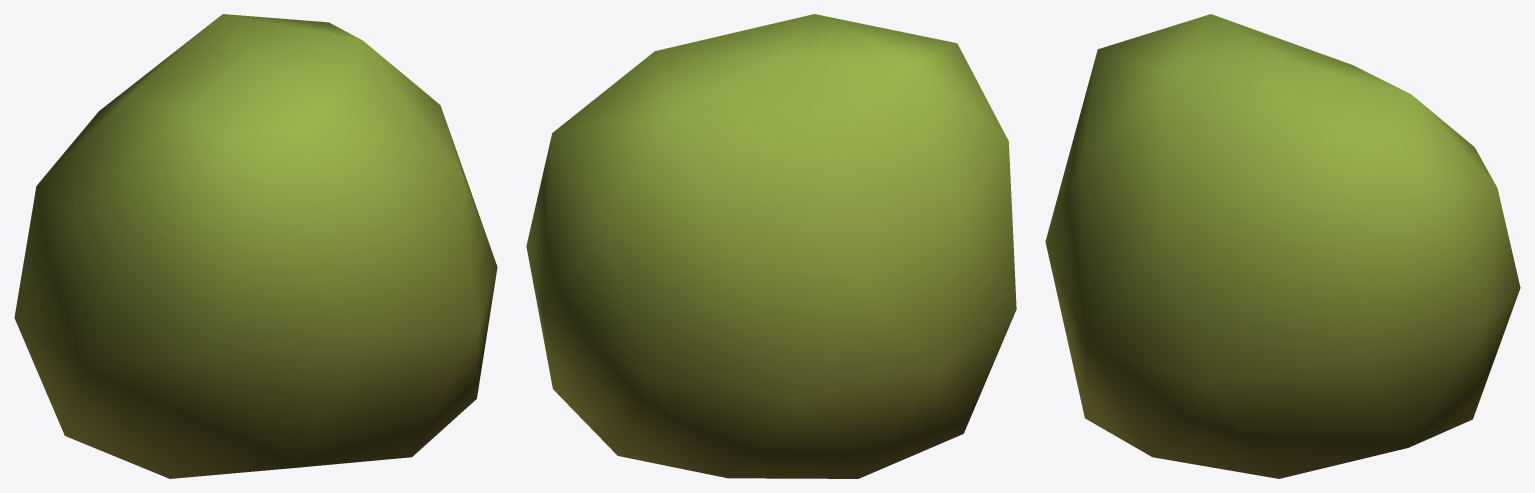
Rendered from bush1.fbx.
The picture shows the model from 3 angles, left to right: view 1: azimuth 30°, elevation 25°; view 2: azimuth 150°, elevation 25°; view 3: azimuth 270°, elevation 25°; orthographic projection. The views are drawn at different scales.
Parts seen in each view (by area): view 1: Bush2; view 2: Bush2; view 3: Bush2.
Part boxes in pixels (x1,y1,x2,y2): Bush2: [14, 14, 497, 478]; Bush2: [526, 14, 1016, 478]; Bush2: [1045, 14, 1520, 478].
Bounding box in the file's own units: 4038 × 3394 × 4174.
